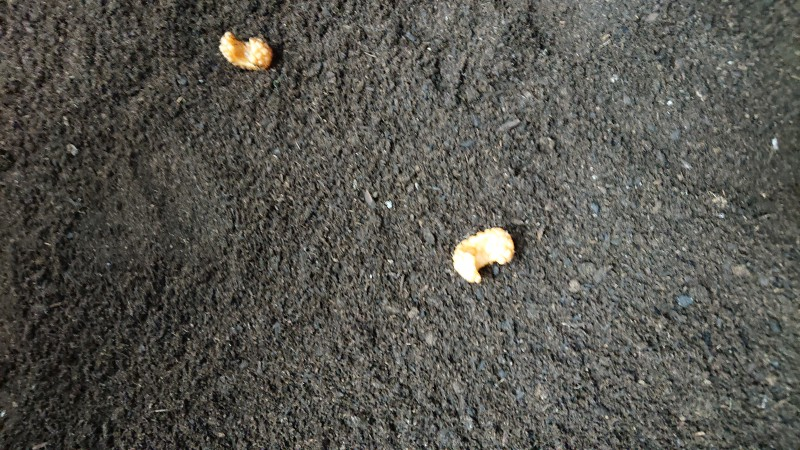eggs: (449, 223, 520, 284), (212, 23, 275, 75)
